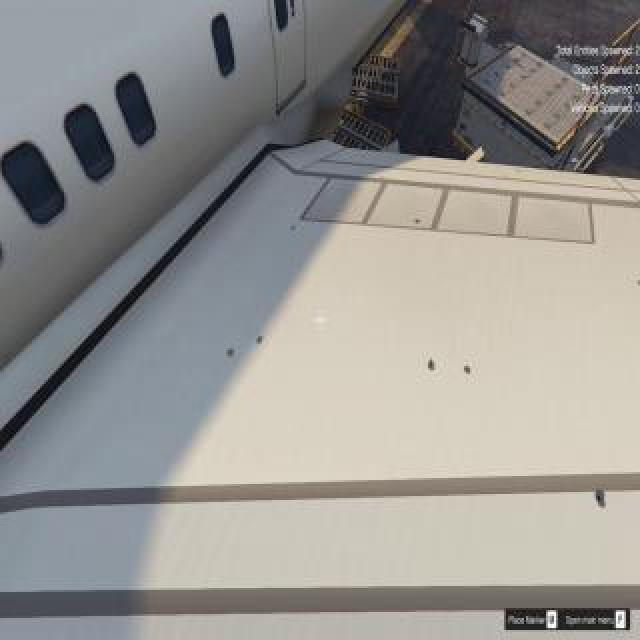crack: (596, 489, 606, 509), (426, 354, 436, 374), (463, 362, 473, 378), (256, 334, 264, 348), (227, 347, 235, 357), (290, 221, 296, 233), (413, 217, 421, 225)
